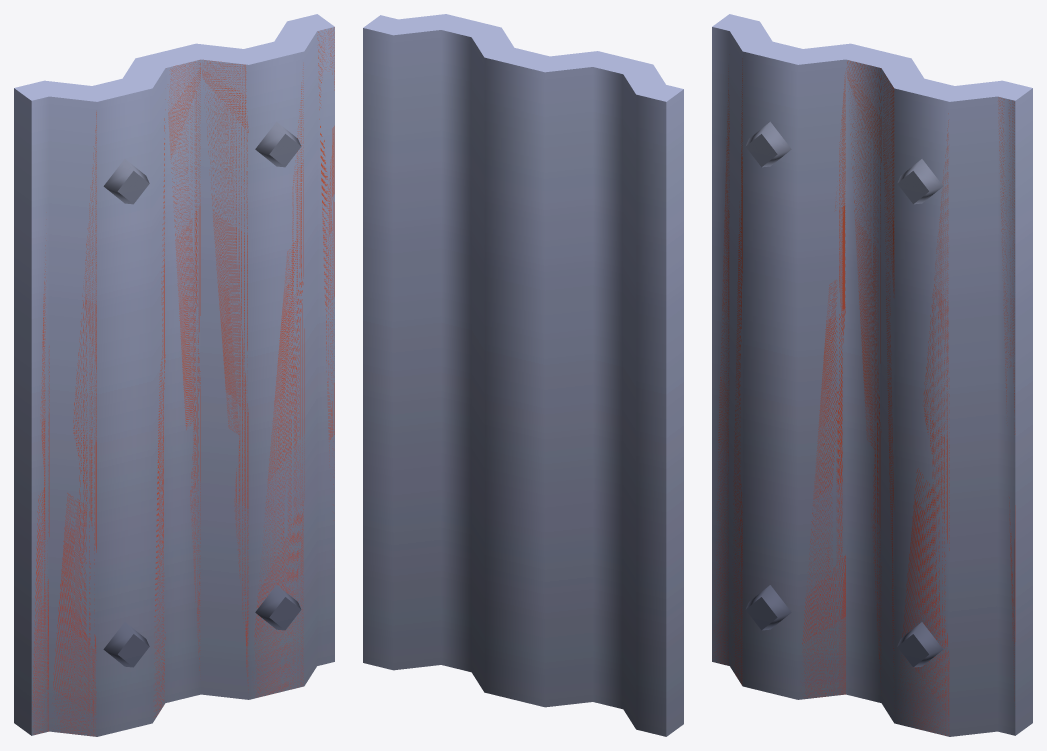
File: metal-panel-screws-narrow.glb
3 views of the same model, side by side, from view 1: azimuth 30°, elevation 25°; view 2: azimuth 150°, elevation 25°; view 3: azimuth 330°, elevation 25° (orthographic).
Parts seen in each view (by area): view 1: metal-panel-screws-narrow; view 2: metal-panel-screws-narrow; view 3: metal-panel-screws-narrow.
Boxes of the visible parts, x1,y1,x2,y2 form: metal-panel-screws-narrow: (14, 14, 334, 736); metal-panel-screws-narrow: (363, 14, 683, 736); metal-panel-screws-narrow: (712, 14, 1032, 736).
Bounding box in the file's own units: 0.25 × 0.5 × 0.0625.
1 material, 1 textured.
